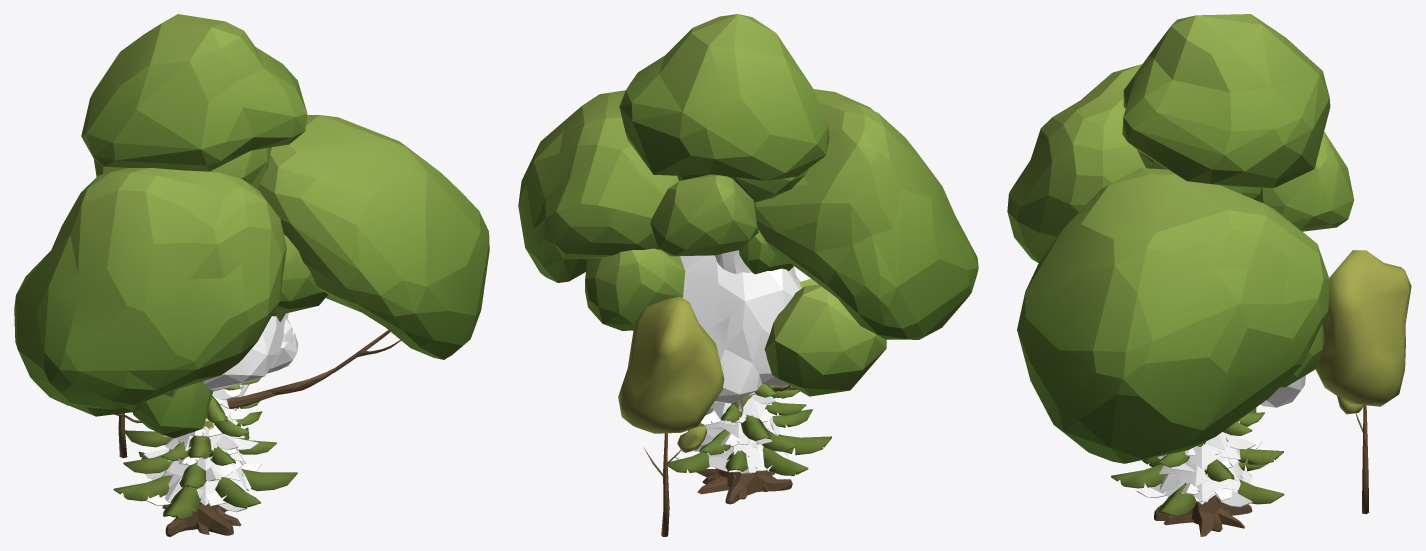
The model's file is smooth_tree_13.glb.
3 views of the same model, side by side, from view 1: azimuth 30°, elevation 25°; view 2: azimuth 150°, elevation 25°; view 3: azimuth 270°, elevation 25° (orthographic). The views are drawn at different scales.
Visible parts, largest first — view 1: Spring_Tree_10_LOD0, Spring_Tree_05_LOD0, Spring_Tree_11_LOD0, Spring_Tree_12_LOD0, Spring_Tree_13_LOD0, Spring_Tree_06_LOD0, Spring_Tree_03_LOD0, Spring_Tree_01_LOD0, Spring_Tree_14_LOD0; view 2: Spring_Tree_10_LOD0, Spring_Tree_11_LOD0, Spring_Tree_08_LOD0, Spring_Tree_13_LOD0, Spring_Tree_05_LOD0, Spring_Tree_12_LOD0, Spring_Tree_01_LOD0, Spring_Tree_03_LOD0, Spring_Tree_06_LOD0, Spring_Tree_15_LOD0; view 3: Spring_Tree_10_LOD0, Spring_Tree_08_LOD0, Spring_Tree_05_LOD0, Spring_Tree_01_LOD0, Spring_Tree_11_LOD0, Spring_Tree_06_LOD0, Spring_Tree_03_LOD0, Spring_Tree_13_LOD0, Spring_Tree_12_LOD0.
Boxes of the visible parts, box(x1,y1,x2,y2) form: Spring_Tree_10_LOD0: box(14, 14, 489, 536); Spring_Tree_05_LOD0: box(113, 377, 297, 519); Spring_Tree_11_LOD0: box(70, 147, 328, 534); Spring_Tree_12_LOD0: box(132, 312, 285, 526); Spring_Tree_13_LOD0: box(204, 313, 288, 391); Spring_Tree_06_LOD0: box(143, 389, 261, 512); Spring_Tree_03_LOD0: box(161, 400, 251, 506); Spring_Tree_01_LOD0: box(163, 389, 246, 502); Spring_Tree_14_LOD0: box(233, 330, 298, 410); Spring_Tree_10_LOD0: box(518, 14, 978, 504); Spring_Tree_11_LOD0: box(585, 168, 886, 499); Spring_Tree_08_LOD0: box(618, 296, 724, 536); Spring_Tree_13_LOD0: box(680, 255, 801, 412); Spring_Tree_05_LOD0: box(667, 384, 831, 475); Spring_Tree_12_LOD0: box(697, 230, 818, 494); Spring_Tree_01_LOD0: box(699, 396, 775, 458); Spring_Tree_03_LOD0: box(694, 409, 788, 472); Spring_Tree_06_LOD0: box(675, 392, 782, 473); Spring_Tree_15_LOD0: box(715, 250, 796, 279); Spring_Tree_10_LOD0: box(1007, 14, 1354, 531); Spring_Tree_08_LOD0: box(1315, 250, 1411, 514); Spring_Tree_05_LOD0: box(1111, 407, 1284, 516); Spring_Tree_01_LOD0: box(1159, 432, 1242, 501); Spring_Tree_11_LOD0: box(1137, 150, 1324, 536); Spring_Tree_06_LOD0: box(1136, 421, 1261, 507); Spring_Tree_03_LOD0: box(1151, 448, 1252, 502); Spring_Tree_13_LOD0: box(1260, 375, 1305, 407); Spring_Tree_12_LOD0: box(1163, 508, 1244, 528).
Size of what is drawn, in the model's own units: 12.47 by 13.05 by 9.48.
Materials: 15 (6 with a texture image).
